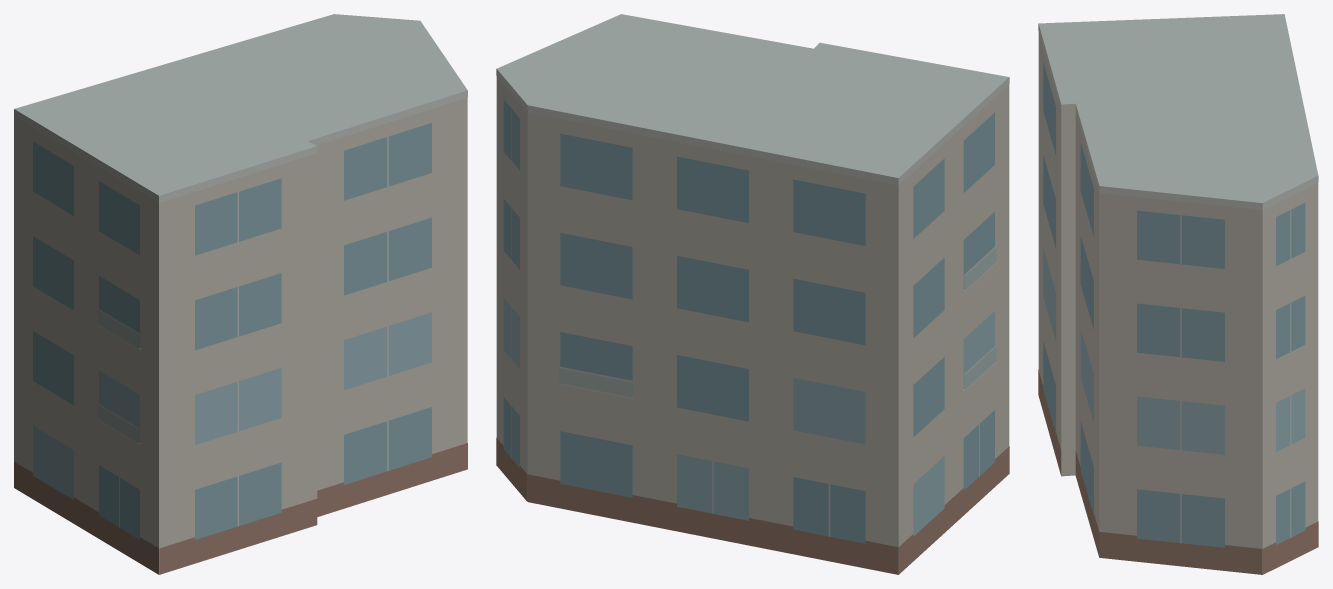
The model's file is survey-upis-32736796.glb.
3 views of the same model, side by side, from view 1: azimuth 30°, elevation 25°; view 2: azimuth 150°, elevation 25°; view 3: azimuth 270°, elevation 25° (orthographic). The views are drawn at different scales.
Parts seen in each view (by area): view 1: survey-upis-32736796.tmp; view 2: survey-upis-32736796.tmp; view 3: survey-upis-32736796.tmp.
Part boxes in pixels (x1,y1,x2,y2): survey-upis-32736796.tmp: [14, 14, 467, 574]; survey-upis-32736796.tmp: [496, 14, 1009, 574]; survey-upis-32736796.tmp: [1038, 14, 1318, 574].
Size of the model in its own units: 14.19 by 13 by 8.88.
